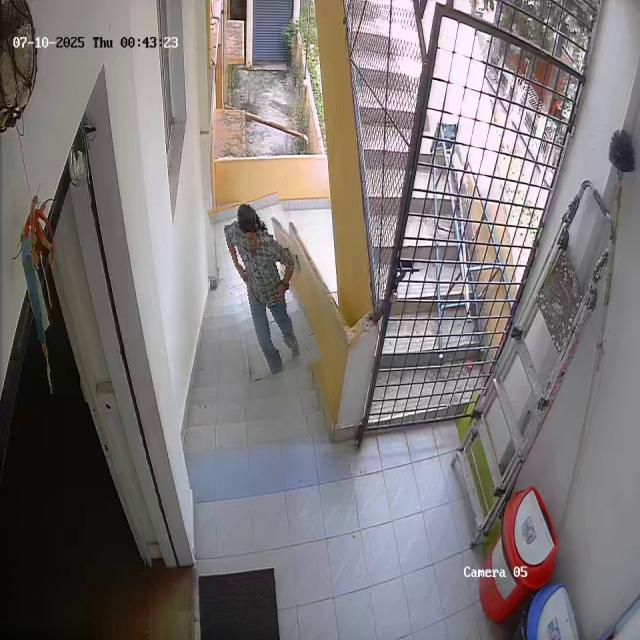person: (218, 195, 314, 377)
